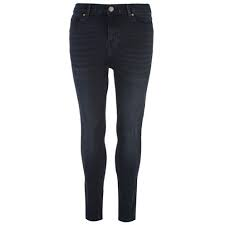jeans: (68, 2, 156, 222)
